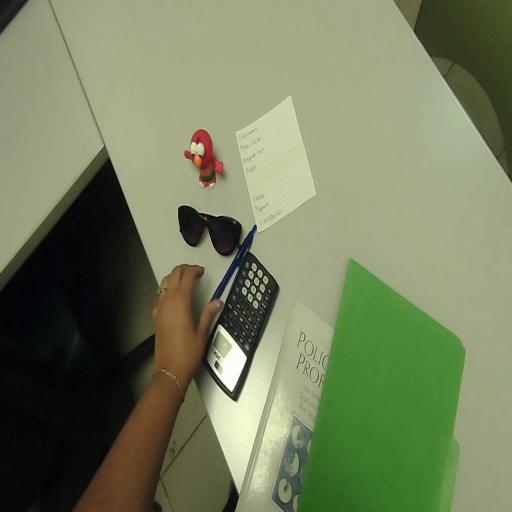pen: (211, 225, 256, 299)
